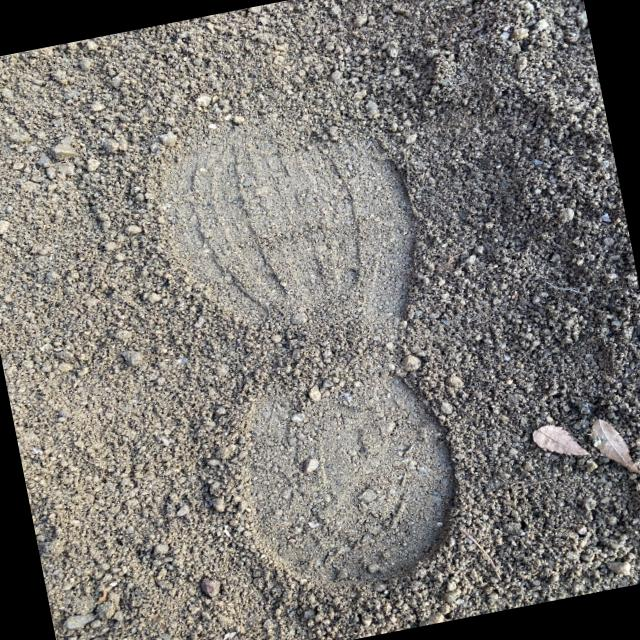human_footprint: (140, 62, 509, 602)
